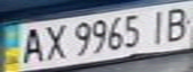5: (121, 10, 148, 49)
6: (106, 14, 130, 52)
9: (69, 18, 93, 57), (90, 17, 112, 55)
A: (15, 25, 48, 64)
B: (160, 3, 193, 43)
I: (142, 7, 172, 45)
X: (39, 21, 69, 62)
